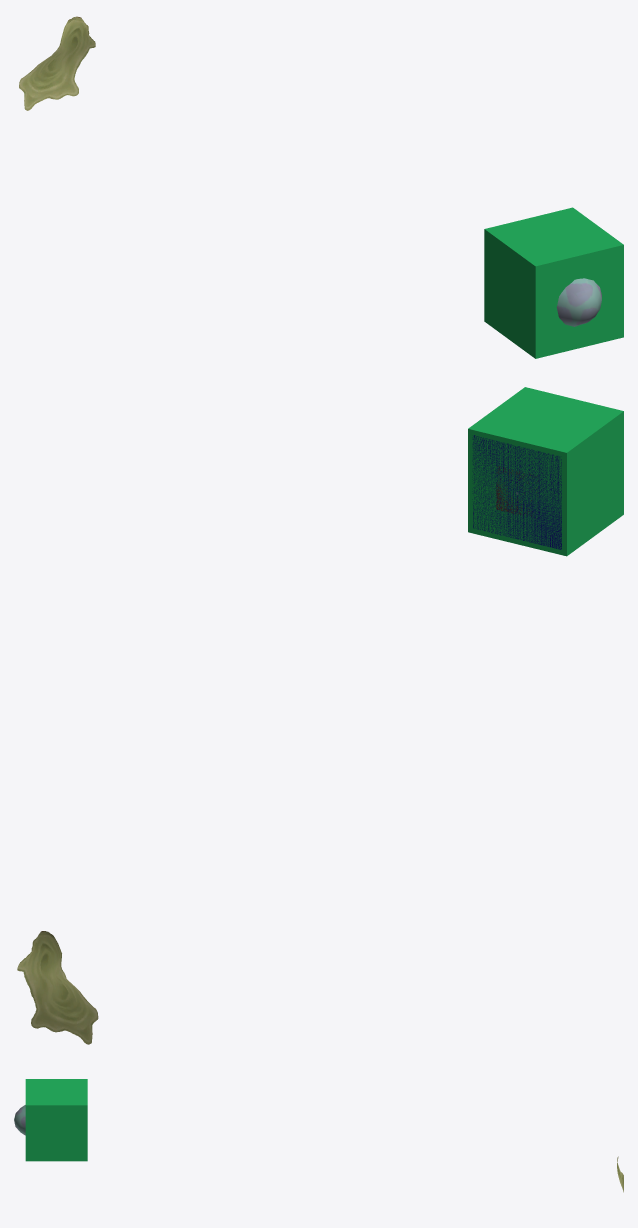
3 views of the same model, one above another, from view 1: azimuth 30°, elevation 25°; view 2: azimuth 150°, elevation 25°; view 3: azimuth 270°, elevation 25° (orthographic). The views are drawn at different scales.
Parts seen in each view (by area): view 1: Box@#0, Plane01, "Editable Poly"; view 2: Box@#0, Box@#3, Plane01; view 3: Box@#0, "Editable Poly".
Part boxes in pixels (box(x1,y1,x2,y2)): Box@#0: box(484, 207, 623, 358); Plane01: box(19, 16, 95, 110); "Editable Poly": box(556, 278, 601, 326); Box@#0: box(468, 387, 623, 556); Box@#3: box(472, 435, 561, 549); Plane01: box(17, 931, 98, 1044); Box@#0: box(25, 1079, 87, 1161); "Editable Poly": box(14, 1105, 25, 1135).
Bounding box in the file's own units: 1.52 × 2.6 × 11.37.
